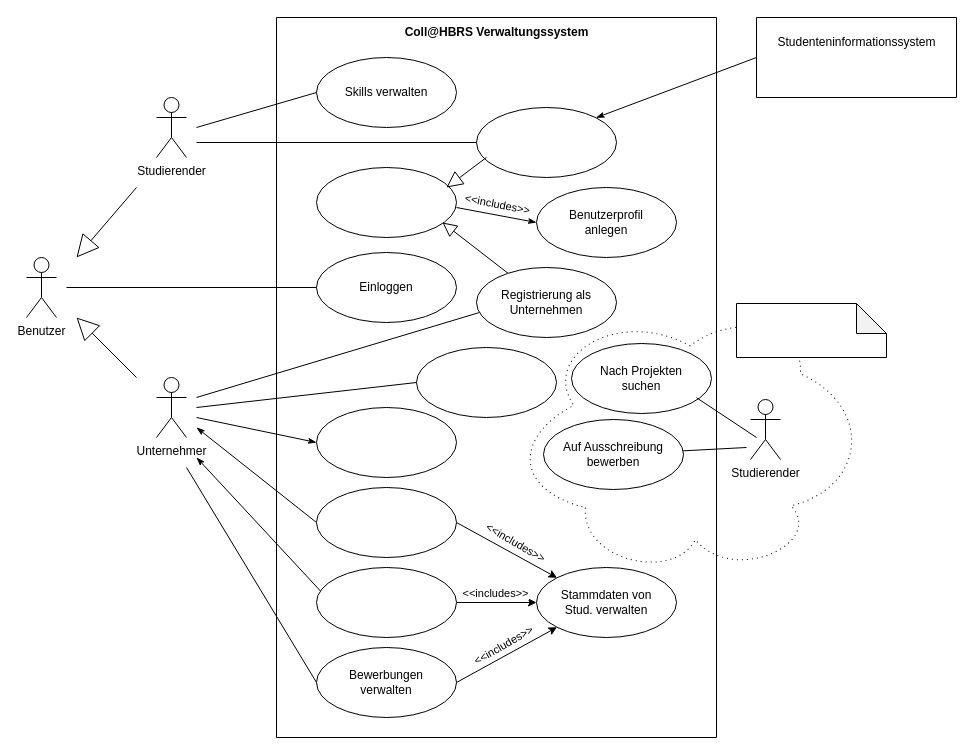
This 974x755 diagram has some shape labels left out. Each missing label, with the centre of its shape:
"Ergänzungen aus Aufgabe 2" belongs at pixel 811 330.
"Projektausschreibung aufgeben" belongs at pixel 386 442.
"Registrieren" belongs at pixel 386 202.
"Registrierung als Studierender" belongs at pixel 546 142.
"Report erhalten" belongs at pixel 386 522.
"Suchanfrage aufgaben" belongs at pixel 486 382.
"Über passenden Stud. informieren" belongs at pixel 386 602.
